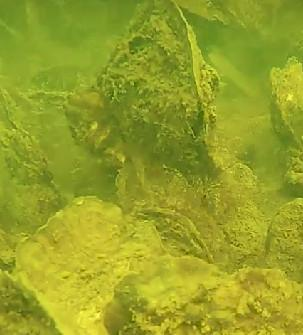Oyster-Closed: (99, 0, 218, 178), (271, 60, 303, 154)
Oyster-Open: (12, 197, 171, 335), (105, 255, 292, 335), (66, 87, 130, 168), (233, 268, 303, 334), (130, 208, 211, 264), (0, 272, 68, 335), (264, 201, 303, 289), (206, 166, 256, 218)
